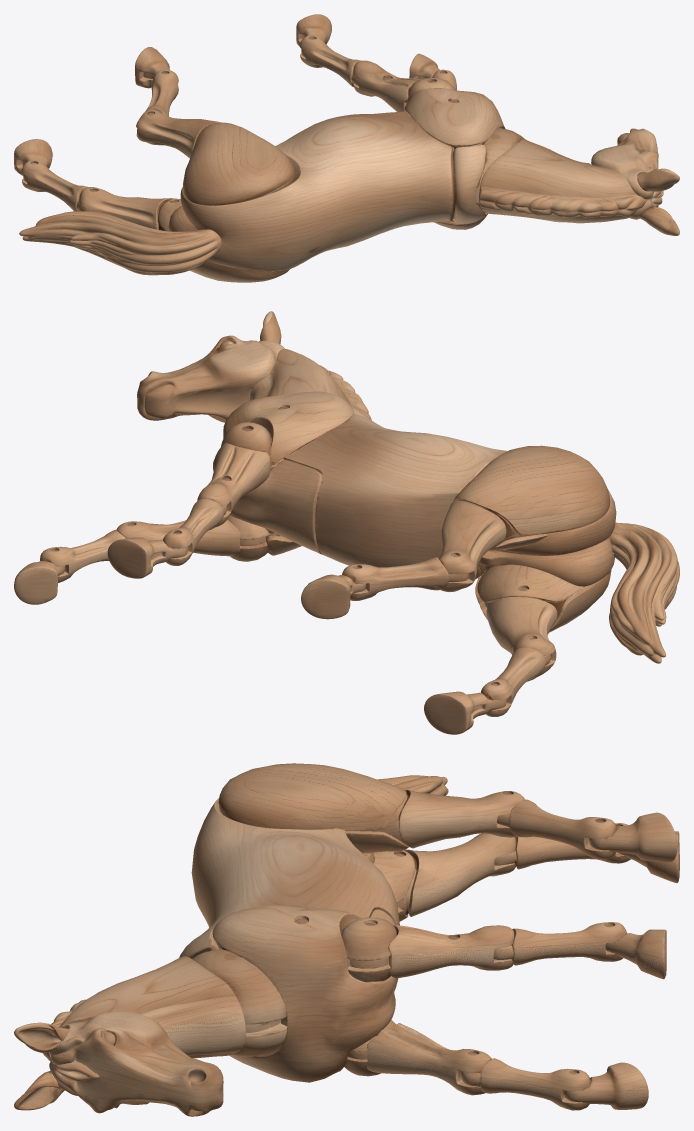
File: horse_figurine.obj
The picture shows the model from 3 angles, top to bottom: view 1: azimuth 30°, elevation 25°; view 2: azimuth 150°, elevation 25°; view 3: azimuth 270°, elevation 25°; orthographic projection. The views are drawn at different scales.
Parts seen in each view (by area): view 1: model; view 2: model; view 3: model.
Boxes of the visible parts, box(x1,y1,x2,y2) form: model: box(14, 14, 679, 282); model: box(14, 311, 679, 734); model: box(14, 763, 679, 1116).
Size of the model in its own units: 0.3525 by 0.0753 by 0.2818.
Materials: 1 (1 with a texture image).
